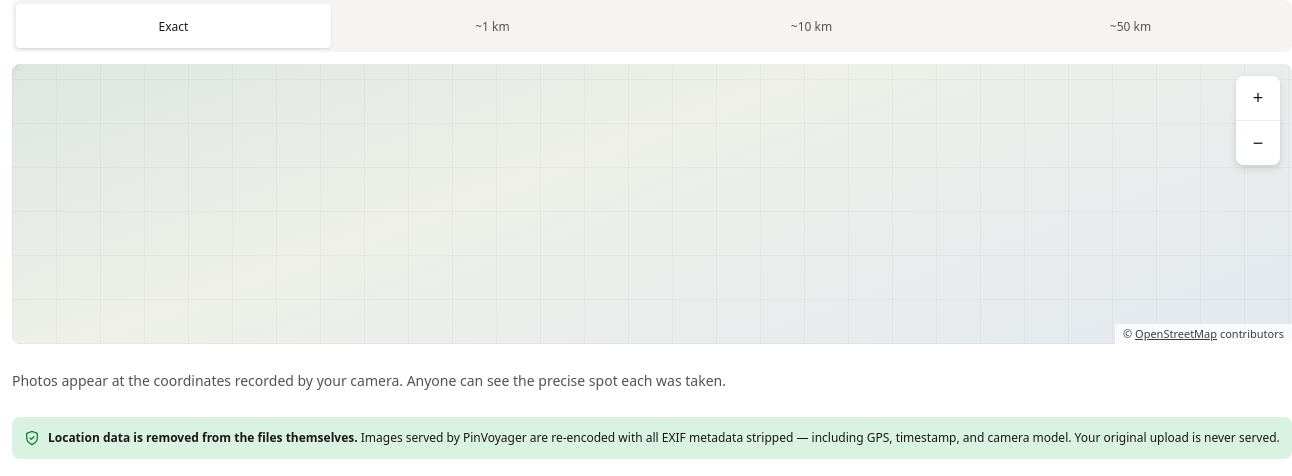
Scenario: GranularitySelector › shows the consequence of the choice before publishing, not after
This screenshot has width=1292, height=476.
Expected: the text "precise spot each was taken" is shown, [12, 371, 726, 390]
Click the button "~10 km" at x=812, y=26, box [654, 4, 969, 48]
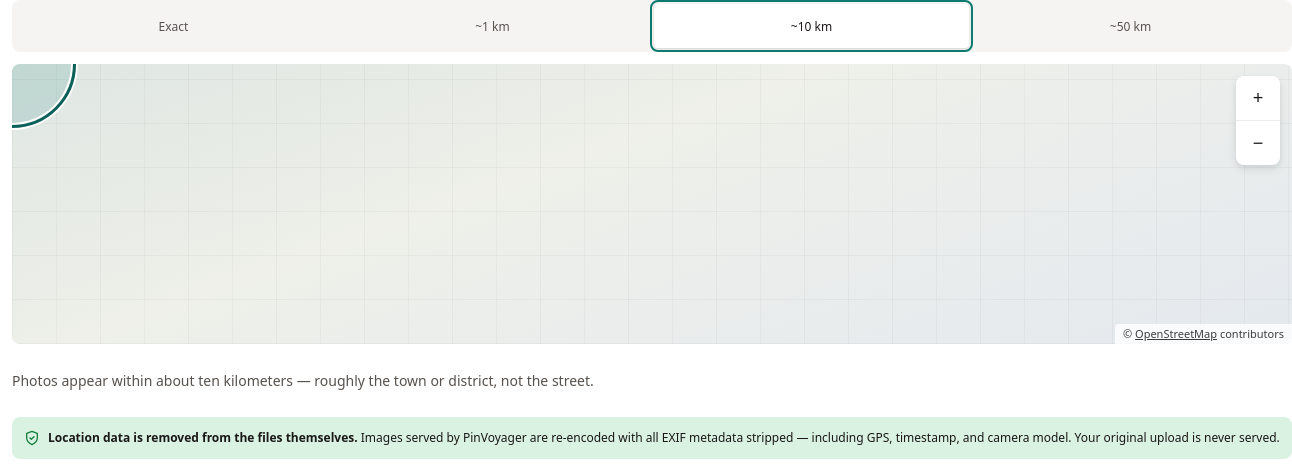
Expected: the text "roughly the town or district, not the street" is shown, [12, 371, 594, 390]
